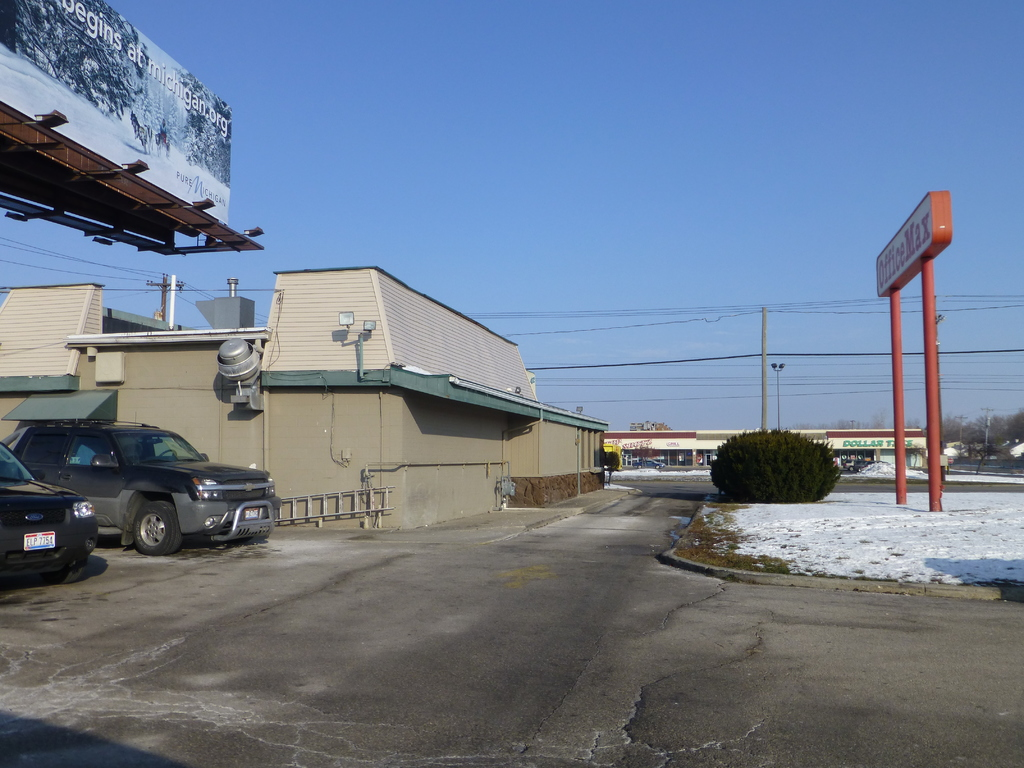Car: (2, 412, 280, 552), (0, 444, 105, 583)
